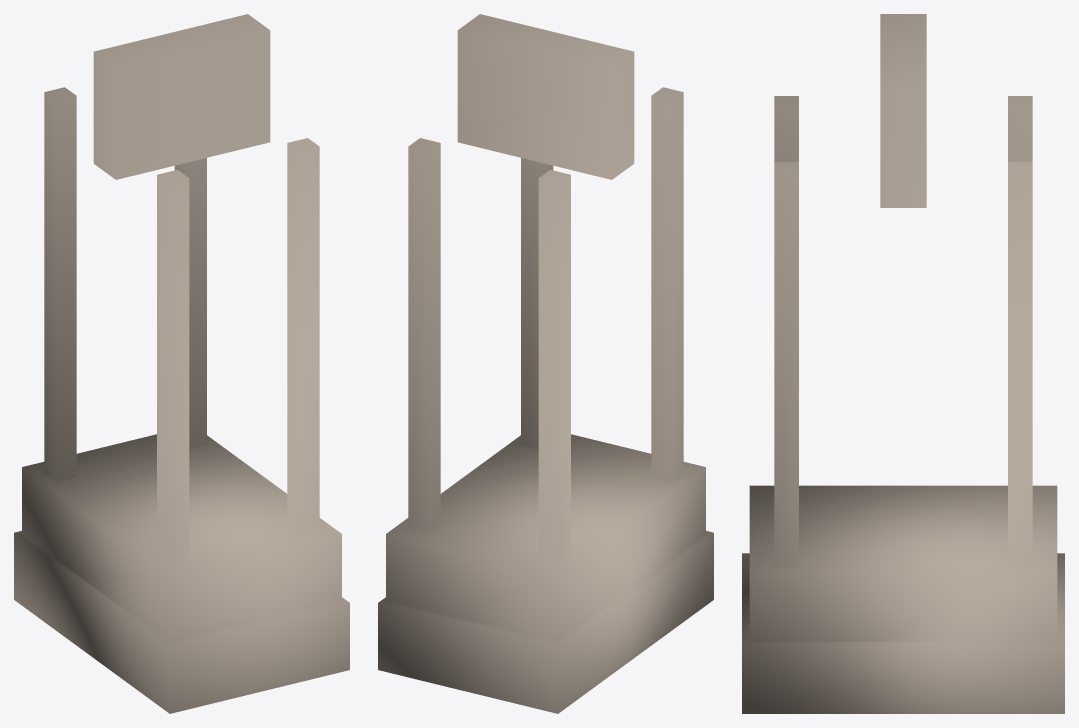
The model's file is small_temple.obj.
3 renders of one model, left to right at view 1: azimuth 30°, elevation 25°; view 2: azimuth 150°, elevation 25°; view 3: azimuth 270°, elevation 25°, orthographic. The views are drawn at different scales.
Parts seen in each view (by area): view 1: building; view 2: building; view 3: building.
Boxes of the visible parts, x1,y1,x2,y2 form: building: (14,14,349,713); building: (378,14,713,713); building: (742,14,1064,713).
Bounding box in the file's own units: 2.1 × 6.62 × 3.15.
